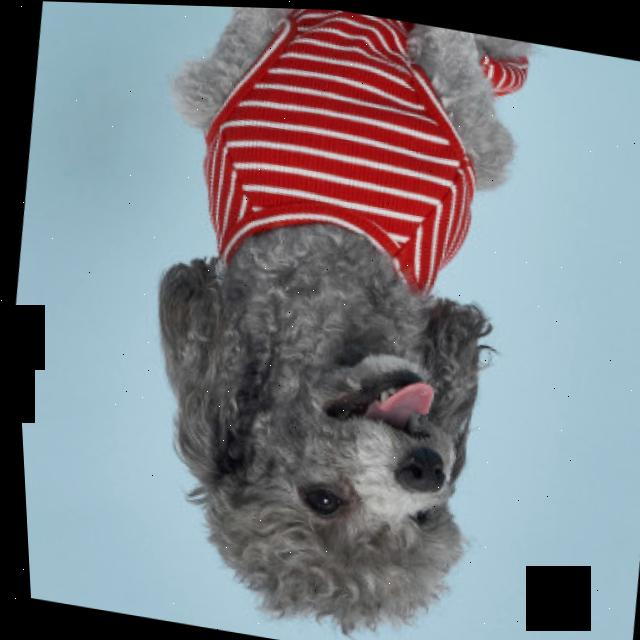cloth: (203, 7, 473, 287)
